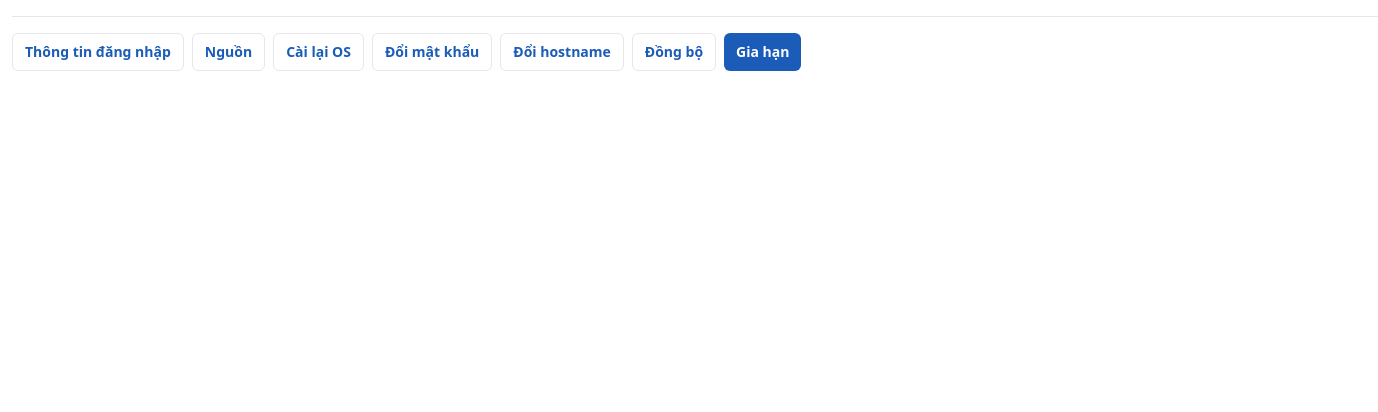
VpsServiceActions › keeps renewal UUID after provider conflict
Click the button "Gia hạn" at (763, 52), box [724,33,802,71]
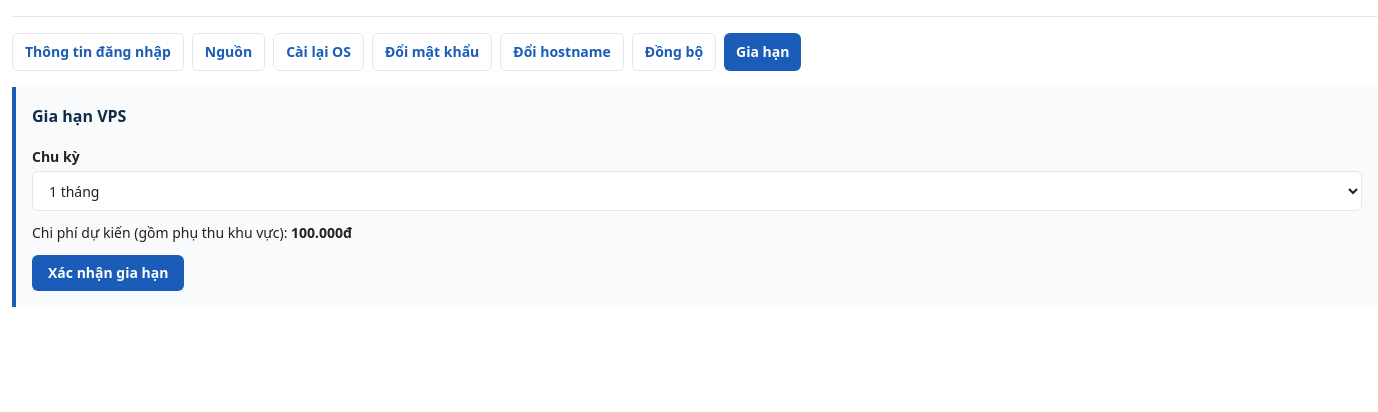
Expected: the text "100.000đ" is shown, [291,223,352,242]
Click the button "Xác nhận gia hạn" at (108, 273), box [32,255,184,291]
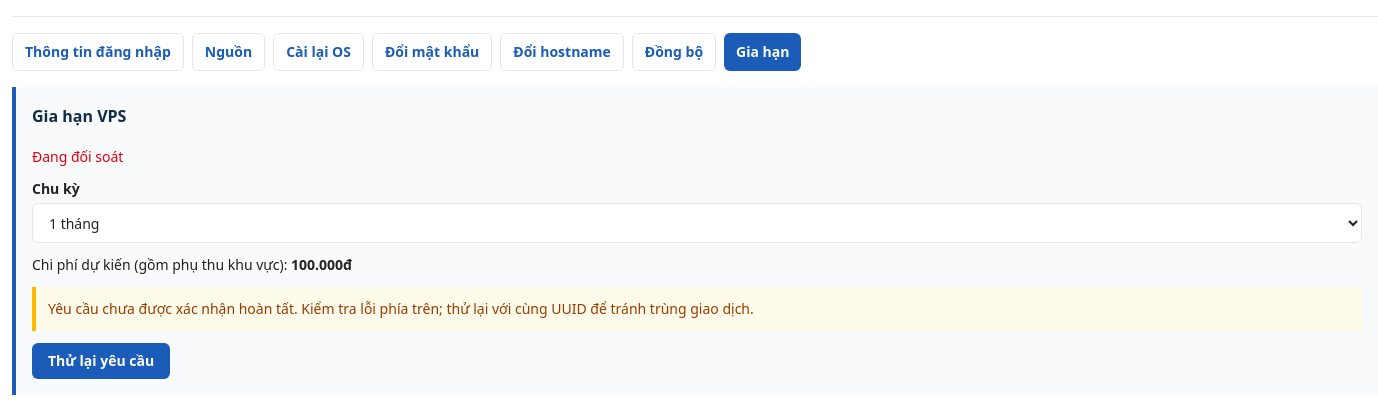
Expected: the message reads "Đang đối soát", [32,147,123,166]
Click the button "Thử lại yêu cầu" at (101, 361), box [32,343,170,379]
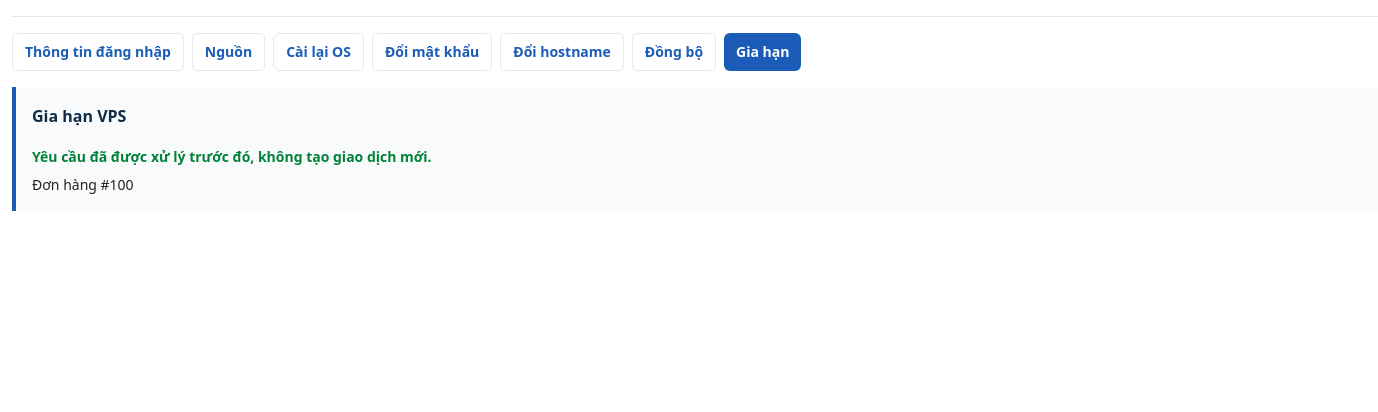
Expected: the text "Yêu cầu đã được xử lý trước đó, không tạo giao dịch mới." is shown, [32,147,432,166]
